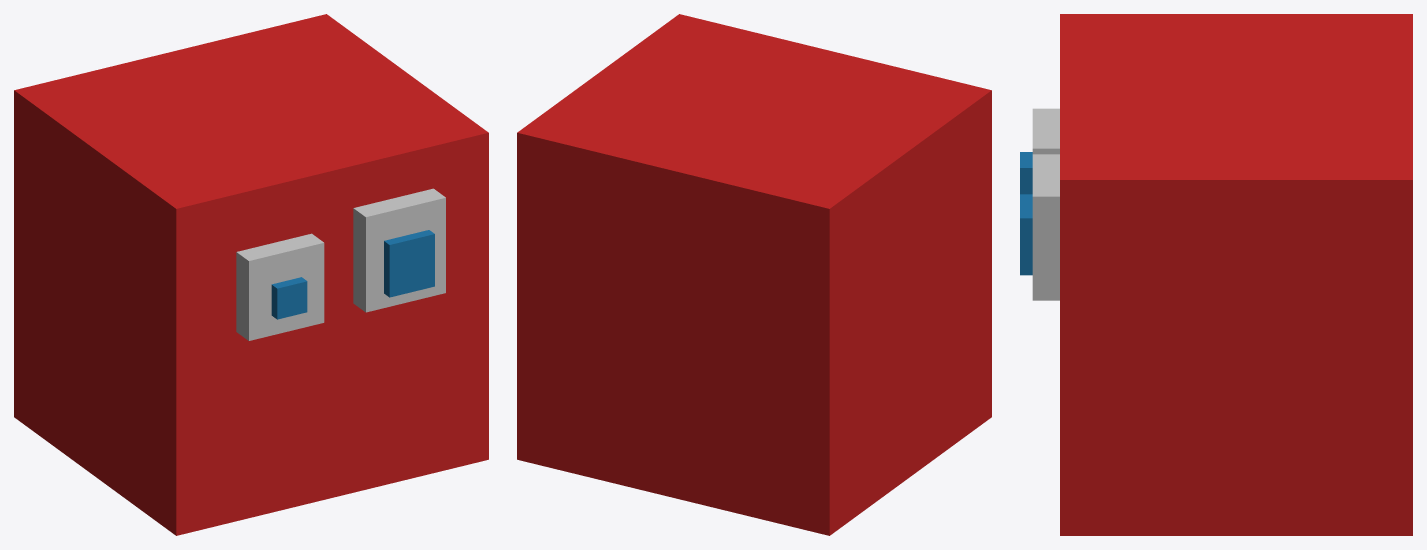
The model's file is player.obj.
3 renders of one model, left to right at view 1: azimuth 30°, elevation 25°; view 2: azimuth 150°, elevation 25°; view 3: azimuth 270°, elevation 25°, orthographic. The views are drawn at different scales.
Parts seen in each view (by area): view 1: Cube; view 2: Cube; view 3: Cube.
Part boxes in pixels (x1,y1,x2,y2): Cube: [14, 14, 488, 535]; Cube: [517, 14, 991, 535]; Cube: [1020, 14, 1412, 535].
Size of the model in its own units: 0.64 by 0.64 by 0.64.
